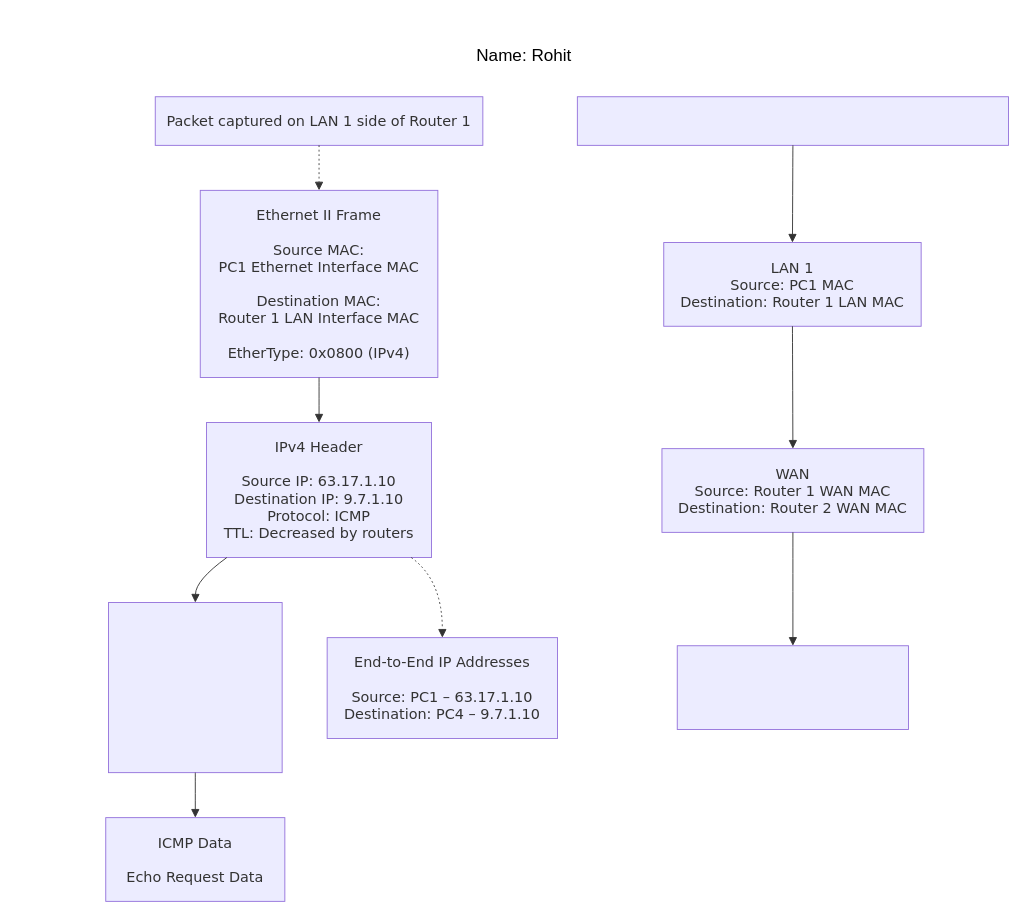
Image size: 1024x917. Some labels were removed from this diagram. Each missing label, with the box of its shape:
Ethernet MAC addresses change at each network segment: (576, 96, 1008, 145)
ICMP Header Type: 8 Echo Request Code: 0 Checksum Identifier Sequence Number: (108, 602, 282, 773)
LAN 2 Source: Router 2 LAN MAC Destination: PC4 MAC: (676, 645, 909, 729)
